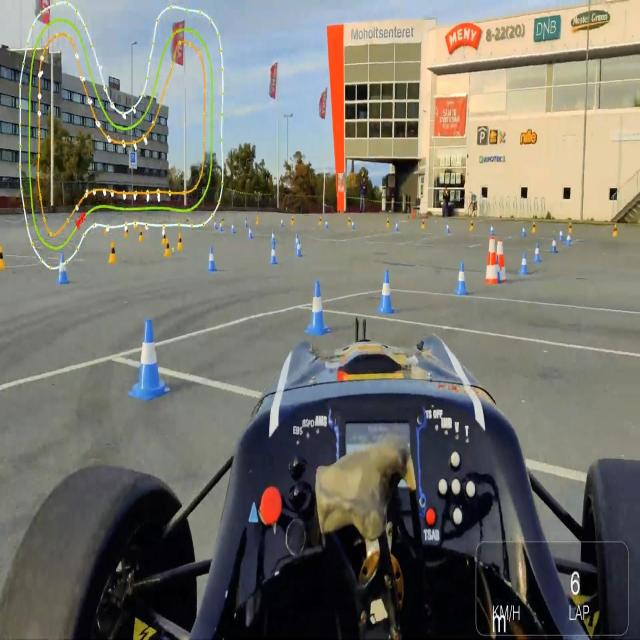blue_cone: (128, 319, 171, 402), (304, 280, 331, 335), (376, 271, 396, 314), (56, 253, 70, 284), (455, 263, 468, 294), (492, 254, 502, 283), (520, 251, 530, 274), (208, 245, 216, 272), (270, 243, 278, 265), (534, 241, 541, 262), (552, 235, 558, 253), (296, 240, 302, 257)
large_orange_cone: (485, 236, 499, 284), (495, 240, 507, 280)
yellow_cone: (109, 241, 118, 263), (163, 238, 171, 257), (177, 234, 183, 251), (162, 231, 168, 246)
